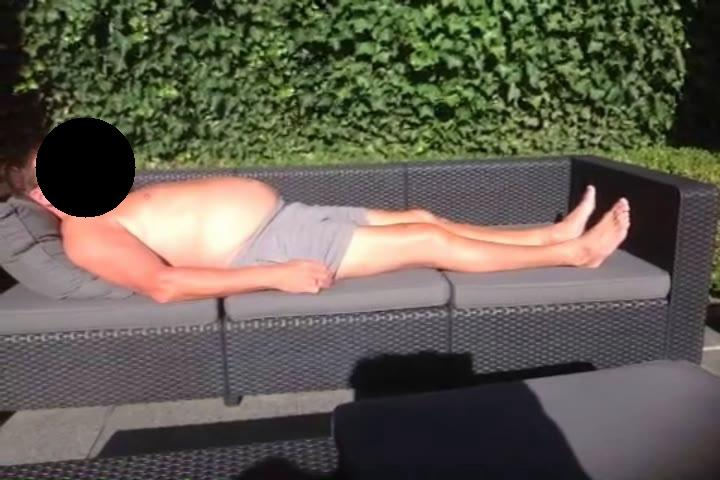lower_body: (264, 183, 634, 276)
